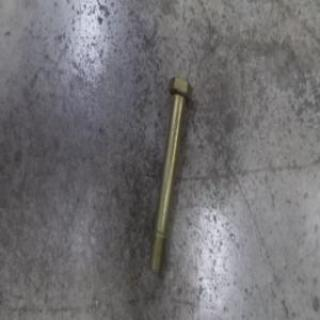Bolttrack_idkeyframe: (147, 72, 193, 277)
